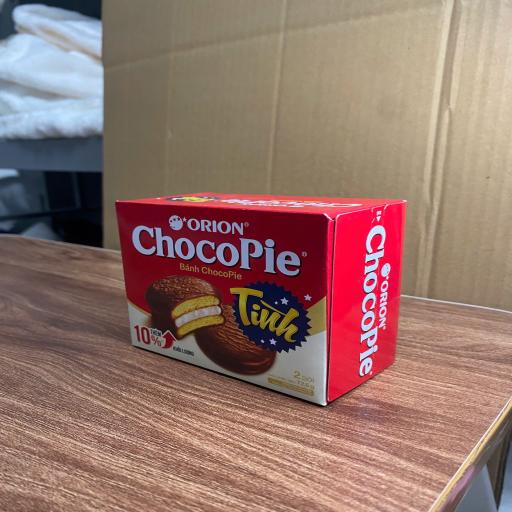chocopie: (116, 191, 406, 406)
